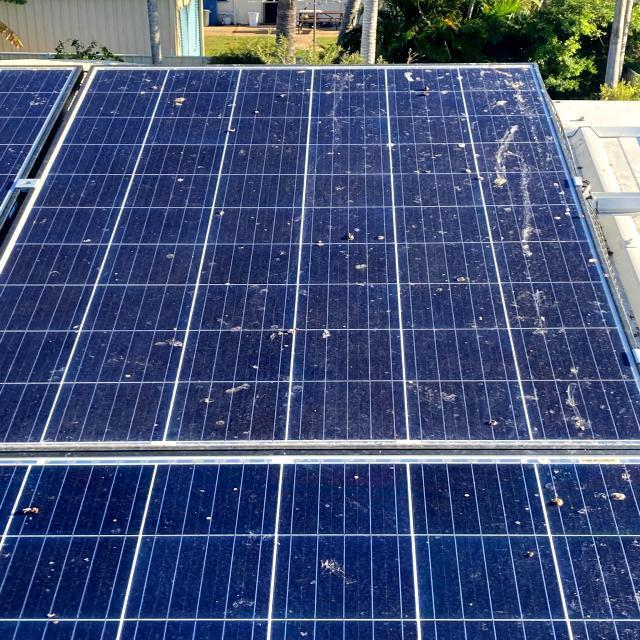soiled: (6, 68, 640, 444), (1, 454, 640, 640)
